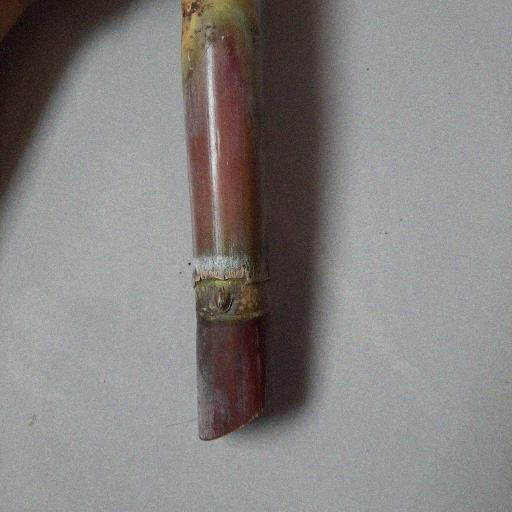Bud: (212, 287, 233, 313)
